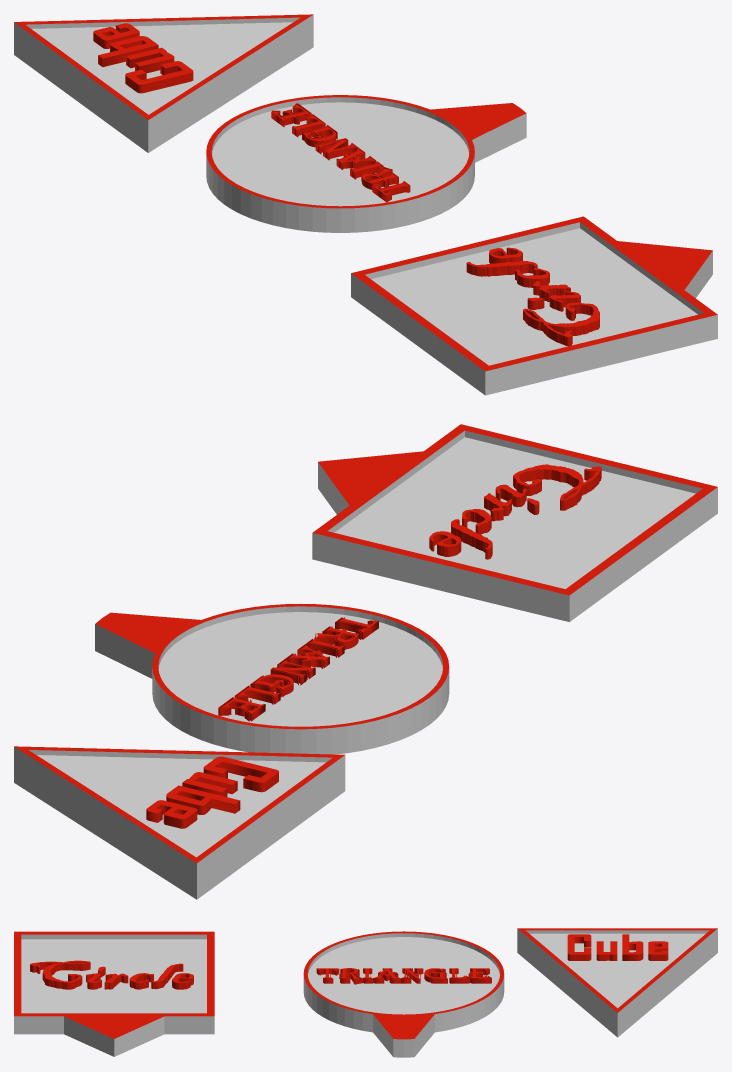
The model's file is Signs.fbx.
The picture shows the model from 3 angles, top to bottom: view 1: azimuth 30°, elevation 25°; view 2: azimuth 150°, elevation 25°; view 3: azimuth 270°, elevation 25°; orthographic projection. The views are drawn at different scales.
Parts seen in each view (by area): view 1: CubeSign, CircleSign, TriangleSign; view 2: CubeSign, CircleSign, TriangleSign; view 3: CubeSign, CircleSign, TriangleSign.
Boxes of the visible parts, x1,y1,x2,y2 form: CubeSign: [351, 216, 717, 395]; CircleSign: [206, 95, 526, 232]; TriangleSign: [14, 14, 313, 152]; CubeSign: [312, 424, 717, 621]; CircleSign: [95, 603, 449, 754]; TriangleSign: [14, 746, 345, 899]; CubeSign: [14, 931, 214, 1056]; CircleSign: [303, 931, 504, 1057]; TriangleSign: [517, 928, 717, 1037].
Bounding box in the file's own units: 254 × 30.42 × 702.
